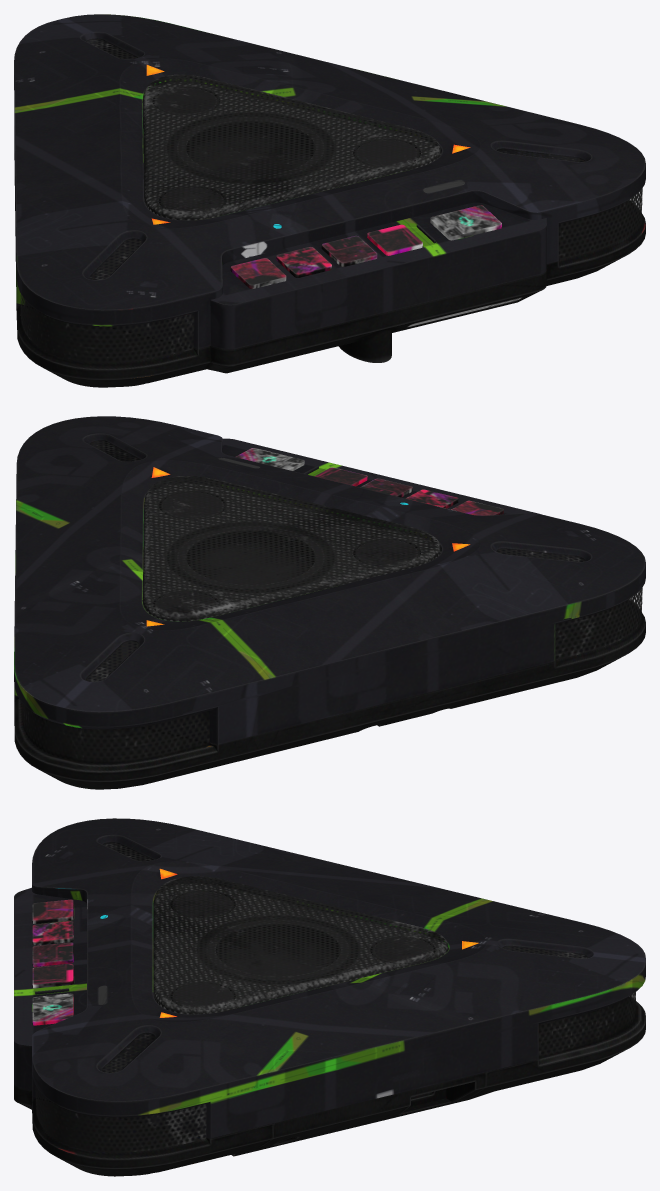
File: gadget.gltf
3 renders of one model, top to bottom at view 1: azimuth 30°, elevation 25°; view 2: azimuth 150°, elevation 25°; view 3: azimuth 270°, elevation 25°, orthographic. The views are drawn at different scales.
Parts seen in each view (by area): view 1: Conference.001_low_0, Conference.002_low_1, Conference.020_low_6, Conference.003_low_2, Conference.013_low_13, Conference.007_low_7, Conference.024_low_23, Conference.014_low_14, Conference.008_low_8, Conference.015_low_15, Conference.005_low_4; view 2: Conference.001_low_0, Conference.002_low_1, Conference.020_low_6, Conference.013_low_13, Conference.004_low_3, Conference.024_low_23, Conference.003_low_2, Conference.014_low_14, Conference.007_low_7, Conference.015_low_15, Conference.005_low_4, Conference.008_low_8 (+1 smaller); view 3: Conference.001_low_0, Conference.002_low_1, Conference.020_low_6, Conference.013_low_13, Conference.003_low_2, Conference.018_low_17, Conference.024_low_23, Conference.007_low_7, Conference.004_low_3, Conference.014_low_14, Conference.015_low_15, Conference.008_low_8 (+1 smaller).
Boxes of the visible parts, x1,y1,x2,y2 form: Conference.001_low_0: [14, 14, 645, 349]; Conference.002_low_1: [143, 74, 440, 220]; Conference.020_low_6: [14, 153, 645, 387]; Conference.003_low_2: [20, 188, 642, 362]; Conference.013_low_13: [142, 82, 441, 220]; Conference.007_low_7: [230, 224, 422, 289]; Conference.024_low_23: [177, 117, 324, 179]; Conference.014_low_14: [153, 88, 420, 214]; Conference.008_low_8: [430, 205, 501, 240]; Conference.015_low_15: [165, 112, 334, 184]; Conference.005_low_4: [89, 148, 584, 279]; Conference.001_low_0: [14, 416, 645, 744]; Conference.002_low_1: [143, 476, 440, 621]; Conference.020_low_6: [14, 600, 645, 789]; Conference.013_low_13: [142, 483, 441, 621]; Conference.004_low_3: [22, 703, 209, 763]; Conference.024_low_23: [177, 526, 324, 588]; Conference.003_low_2: [555, 587, 642, 660]; Conference.014_low_14: [153, 492, 420, 618]; Conference.007_low_7: [315, 467, 503, 515]; Conference.015_low_15: [166, 521, 335, 593]; Conference.005_low_4: [90, 440, 584, 561]; Conference.008_low_8: [235, 448, 304, 470]; Conference.001_low_0: [14, 818, 645, 1138]; Conference.002_low_1: [154, 876, 447, 1014]; Conference.020_low_6: [14, 996, 645, 1176]; Conference.013_low_13: [153, 883, 448, 1014]; Conference.003_low_2: [35, 1086, 206, 1152]; Conference.018_low_17: [247, 1072, 486, 1153]; Conference.024_low_23: [206, 920, 348, 980]; Conference.007_low_7: [32, 899, 73, 988]; Conference.004_low_3: [538, 992, 635, 1057]; Conference.014_low_14: [170, 891, 435, 1009]; Conference.015_low_15: [195, 915, 360, 984]; Conference.008_low_8: [32, 993, 73, 1025].
Bounding box in the file's own units: 4.04 × 0.8229 × 3.81.
1 material, 1 textured.
